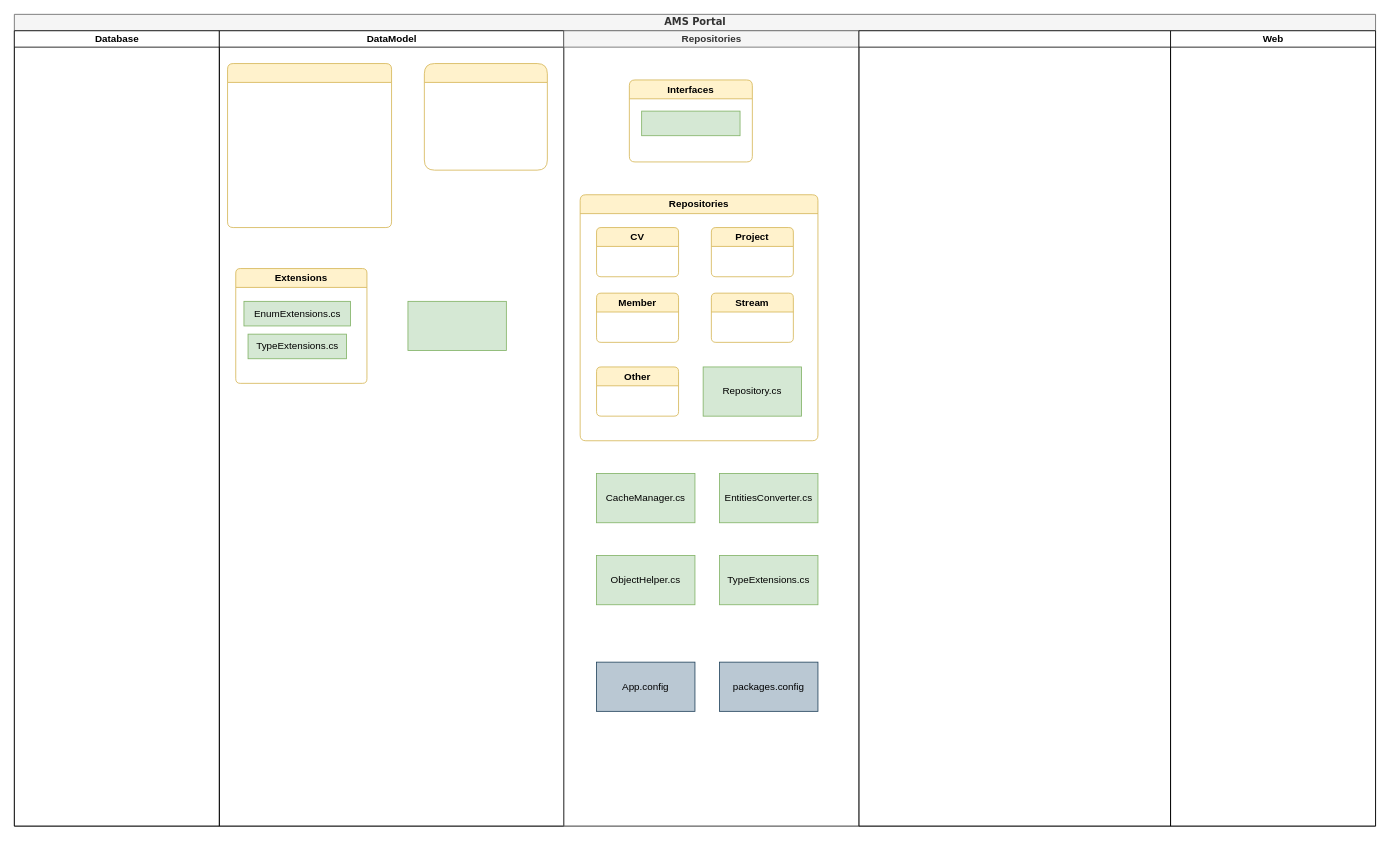
Image size: 1390x841. Some labels were removed from this diagram. The shapes that lost their labels are listed below. From the top down, each one's centre as x and y in pixels, then its label:
the point at 485,116: Metadata
the point at 690,123: IStateManager.cs
the point at 309,145: Entities
the point at 456,326: GlobalSuppresions.cs
the point at 1014,428: Resources
